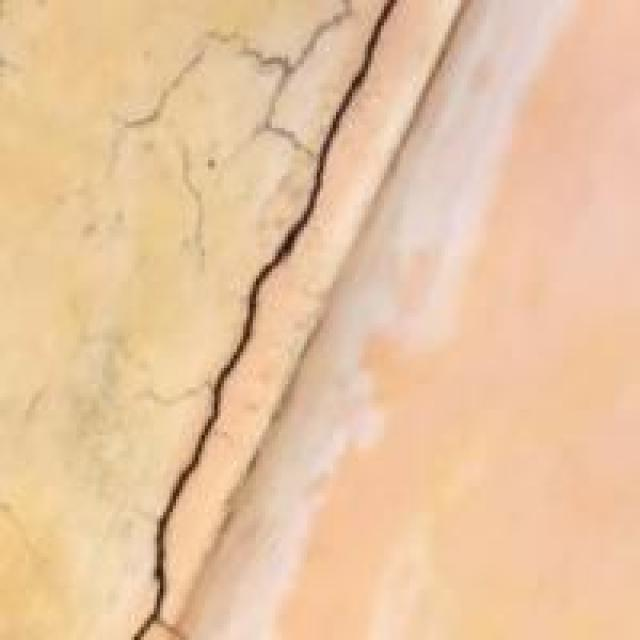Crack: (109, 0, 426, 637)
